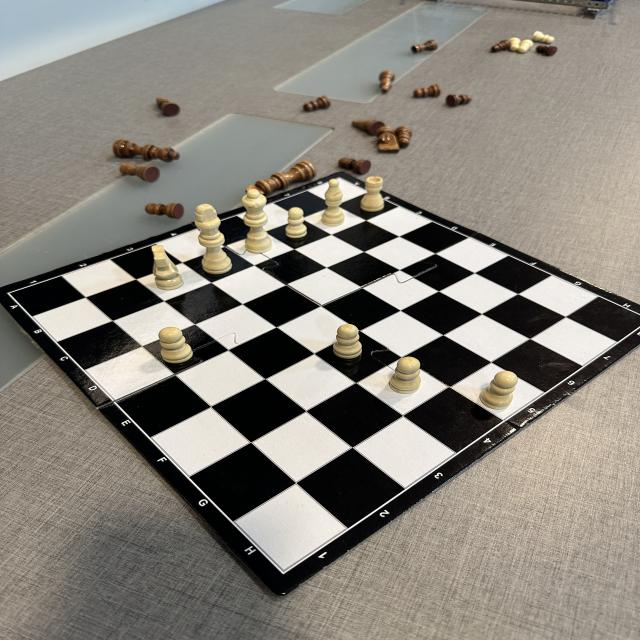Black-Bishop: (156, 98, 180, 116), (378, 70, 394, 93)
Black-King: (246, 160, 316, 197)
Black-Knight: (376, 127, 398, 152), (352, 120, 385, 135)
Black-Pawn: (144, 203, 185, 219), (338, 158, 371, 174), (302, 96, 331, 112), (414, 84, 441, 98), (395, 126, 412, 147), (446, 94, 472, 107), (491, 39, 510, 52), (535, 45, 557, 56)
Black-Queen: (114, 139, 180, 163)
Black-Rook: (120, 163, 160, 183), (411, 40, 438, 54)
White-Bishop: (322, 179, 344, 226)
White-King: (195, 203, 232, 274)
White-Knight: (152, 244, 184, 290)
White-Pawn: (480, 371, 518, 409), (158, 326, 194, 363), (389, 357, 420, 394), (334, 324, 362, 358), (286, 207, 308, 238), (533, 31, 554, 44), (520, 40, 533, 53), (508, 38, 520, 51)
White-Queen: (242, 189, 272, 254)
White-Rook: (360, 176, 383, 212)
